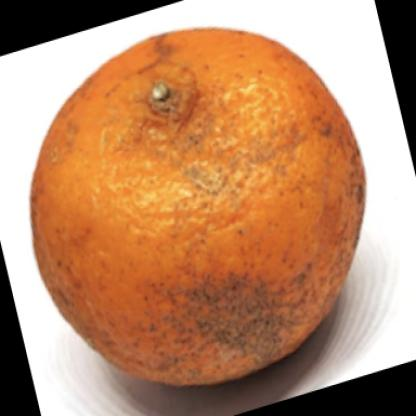rotten_orange: (21, 20, 372, 390)
